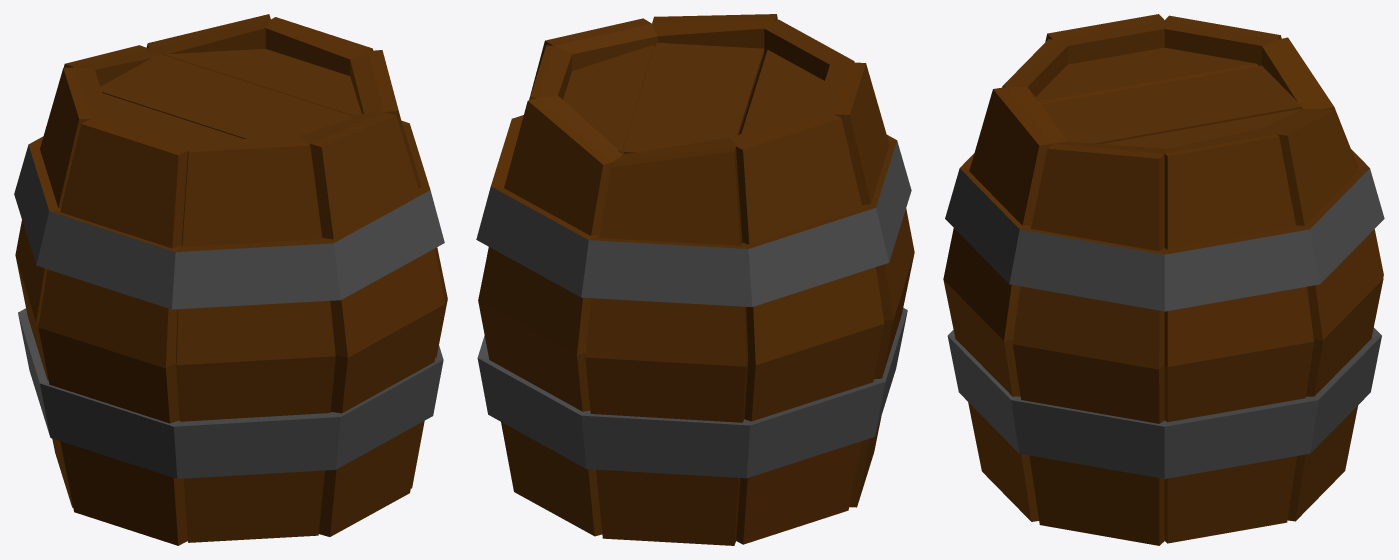
Rendered from barrel.fbx.
3 views of the same model, side by side, from view 1: azimuth 30°, elevation 25°; view 2: azimuth 150°, elevation 25°; view 3: azimuth 270°, elevation 25° (orthographic). The views are drawn at different scales.
Parts seen in each view (by area): view 1: Circle; view 2: Circle; view 3: Circle.
Boxes of the visible parts, <box> form: Circle: <box>14,14,447,545</box>; Circle: <box>476,14,914,545</box>; Circle: <box>943,14,1384,545</box>.
Bounding box in the file's own units: 322 × 306 × 321.
